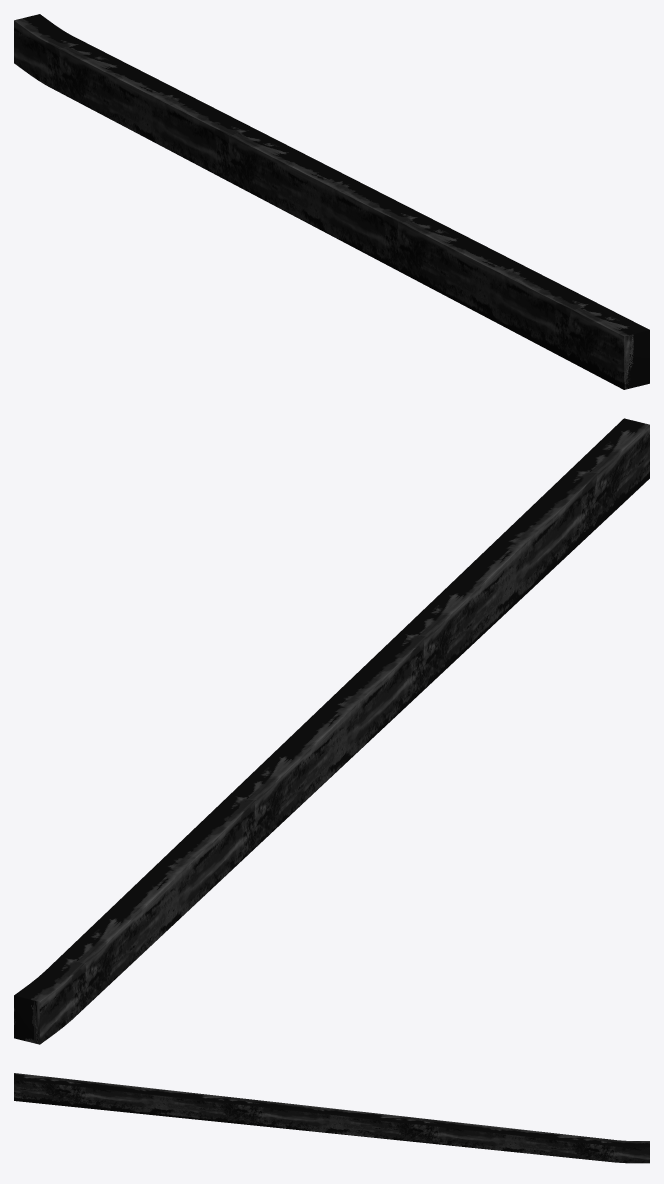
File: decalcs.fbx
The picture shows the model from 3 angles, top to bottom: view 1: azimuth 30°, elevation 25°; view 2: azimuth 150°, elevation 25°; view 3: azimuth 270°, elevation 25°; orthographic projection. The views are drawn at different scales.
Parts seen in each view (by area): view 1: boxBdecalc; view 2: boxBdecalc; view 3: boxBdecalc.
Boxes of the visible parts, x1,y1,x2,y2 form: boxBdecalc: (14,14,649,389); boxBdecalc: (14,418,649,1044); boxBdecalc: (14,1073,649,1163).
Size of the model in its own units: 31.28 by 199 by 1270.
